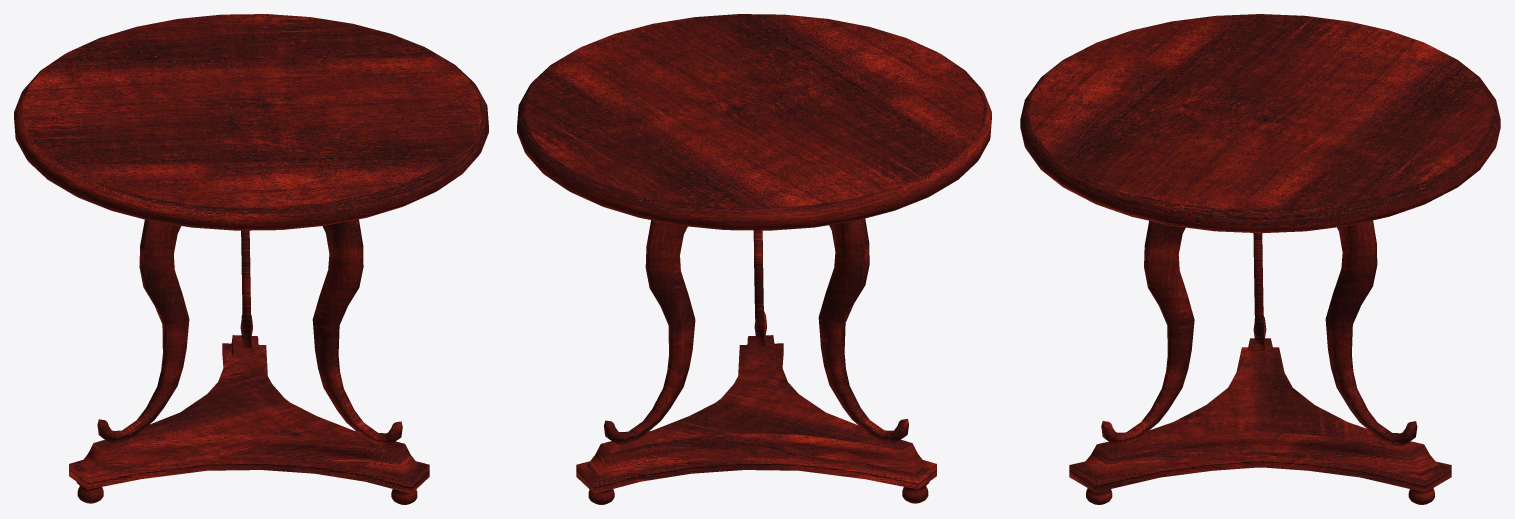
File: luxuriously-tabel.fbx
3 renders of one model, left to right at view 1: azimuth 30°, elevation 25°; view 2: azimuth 150°, elevation 25°; view 3: azimuth 270°, elevation 25°, orthographic.
Parts seen in each view (by area): view 1: Cylinder; view 2: Cylinder; view 3: Cylinder.
Boxes of the visible parts, x1=… form: Cylinder: x1=14, y1=14, x2=488, y2=504; Cylinder: x1=517, y1=14, x2=991, y2=504; Cylinder: x1=1020, y1=14, x2=1500, y2=504.
Size of the model in its own units: 107 by 86.83 by 107.
